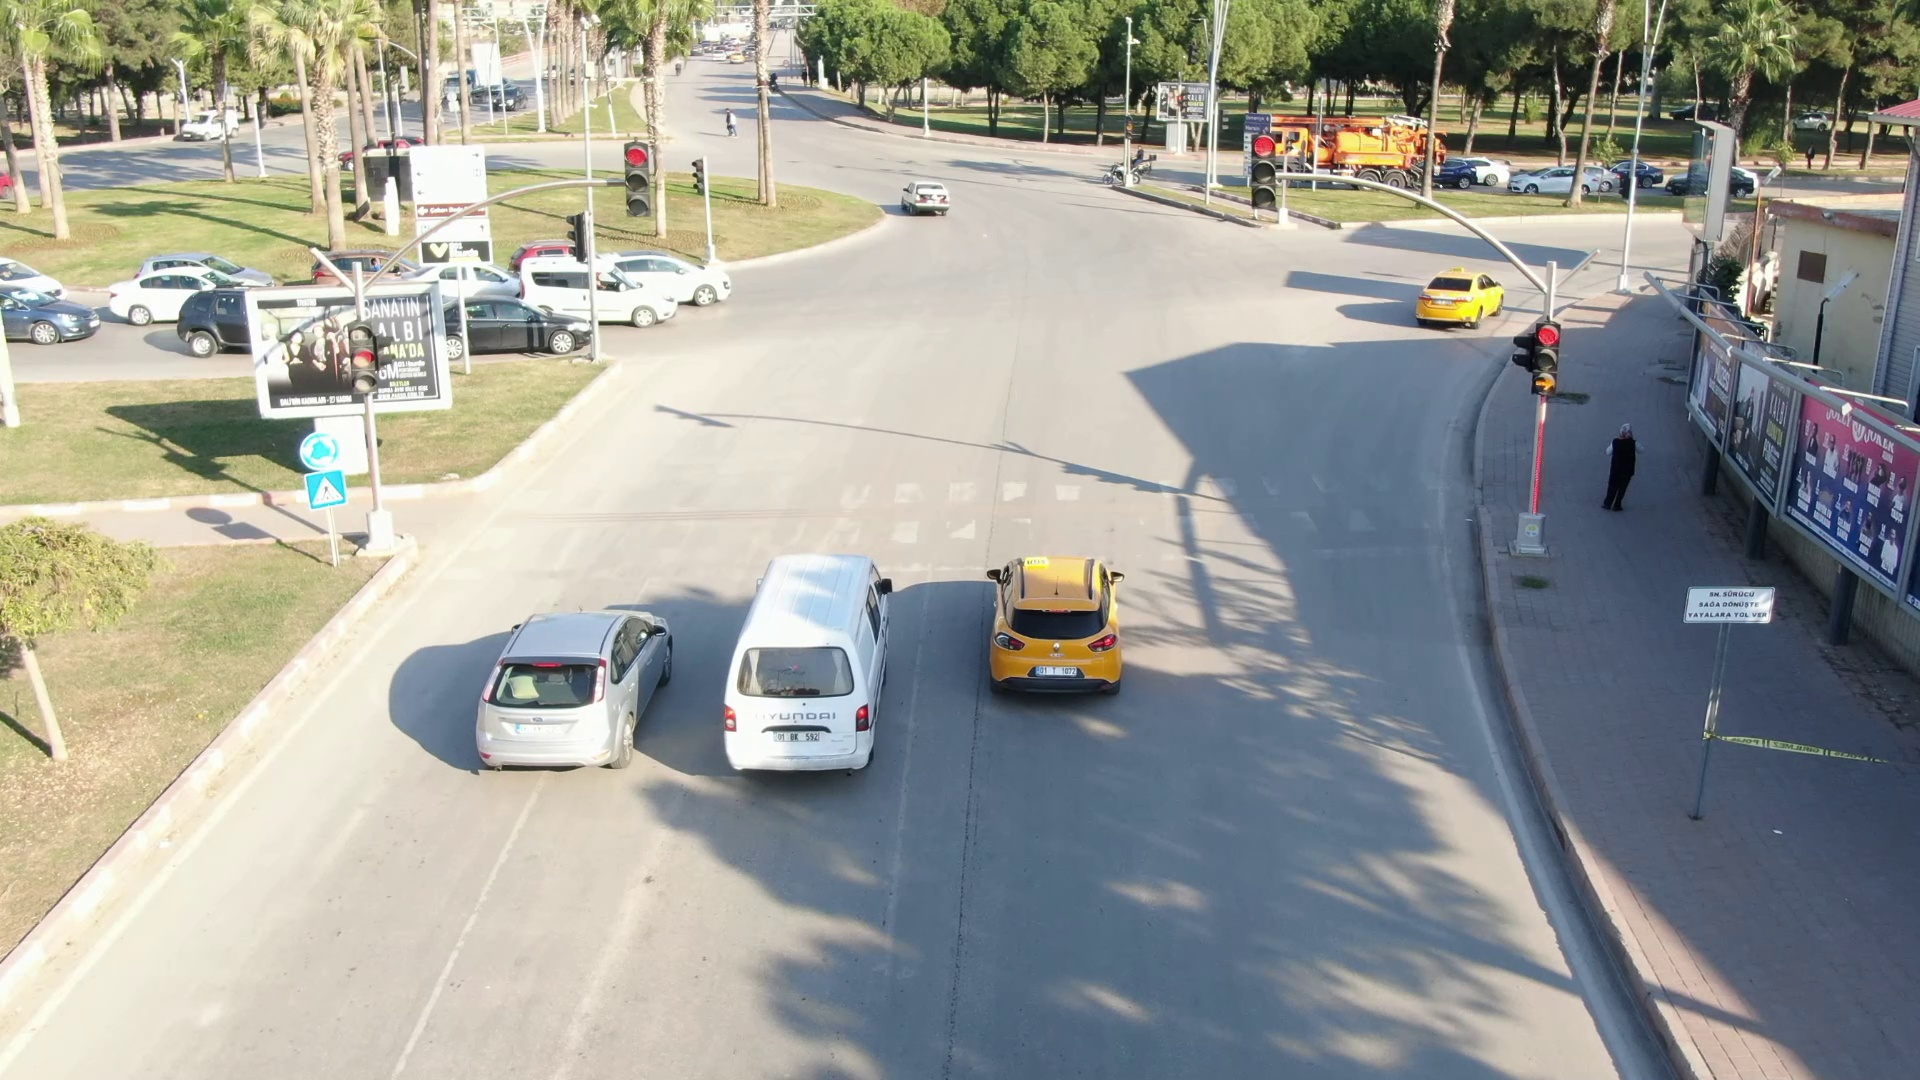car: (708, 537, 908, 788), (472, 596, 680, 776), (978, 537, 1133, 708), (521, 247, 680, 325), (437, 286, 596, 353), (596, 249, 737, 304), (1404, 265, 1517, 331), (904, 174, 953, 219)
person: (1598, 419, 1641, 525)
